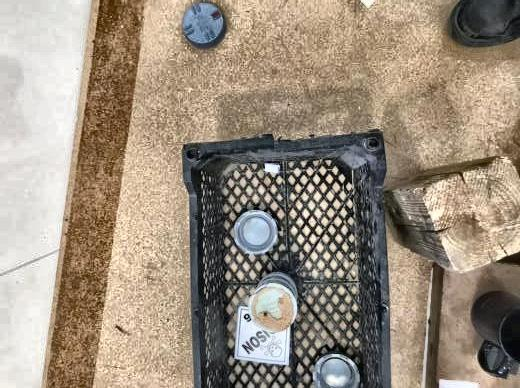poison: (237, 306, 294, 364)
